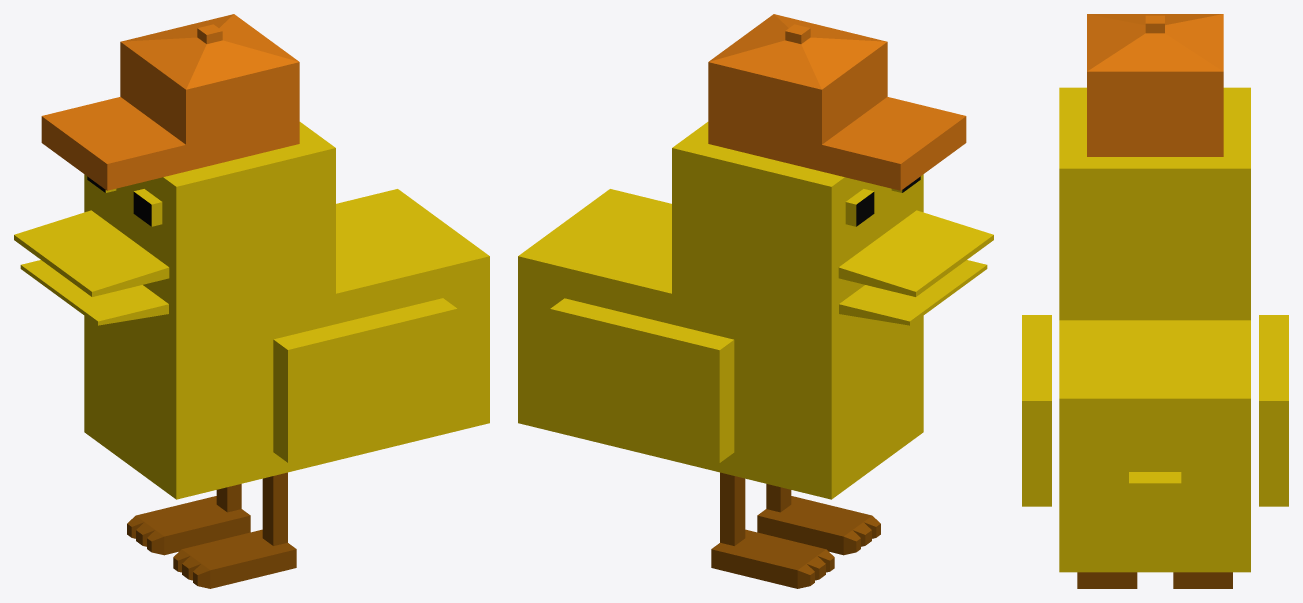
File: DuckColored.fbx
3 renders of one model, left to right at view 1: azimuth 30°, elevation 25°; view 2: azimuth 150°, elevation 25°; view 3: azimuth 270°, elevation 25°, orthographic. The views are drawn at different scales.
Parts seen in each view (by area): view 1: Cube; view 2: Cube; view 3: Cube.
Boxes of the visible parts, left/top/right/bottom form: Cube: left=14, top=14, right=489, bottom=588; Cube: left=518, top=14, right=993, bottom=588; Cube: left=1022, top=14, right=1288, bottom=588.
Size of the model in its own units: 518 by 278 by 626.
